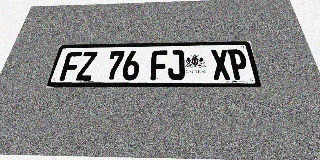6: (122, 51, 141, 80)
7: (105, 51, 125, 80)
F: (59, 52, 82, 81), (150, 50, 167, 80)
J: (168, 50, 185, 80)
P: (227, 49, 250, 80)
X: (210, 49, 232, 80)
Z: (76, 52, 98, 81)
